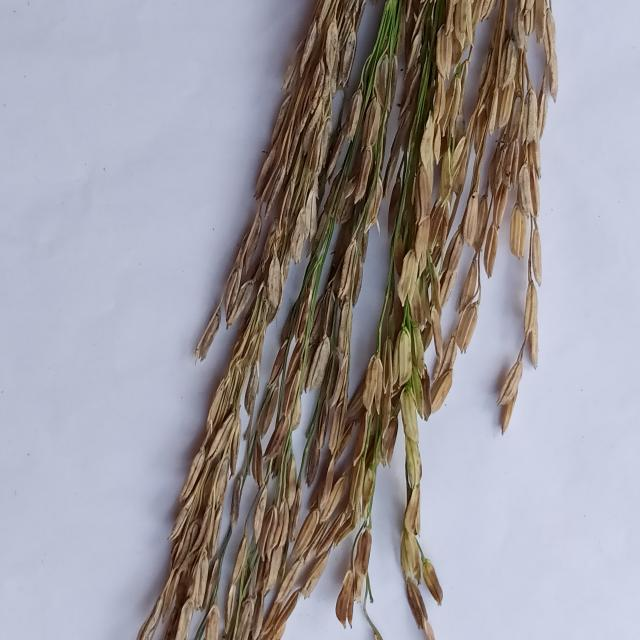Neck_Blast: (147, 1, 364, 640), (388, 0, 575, 640), (260, 62, 398, 640)
